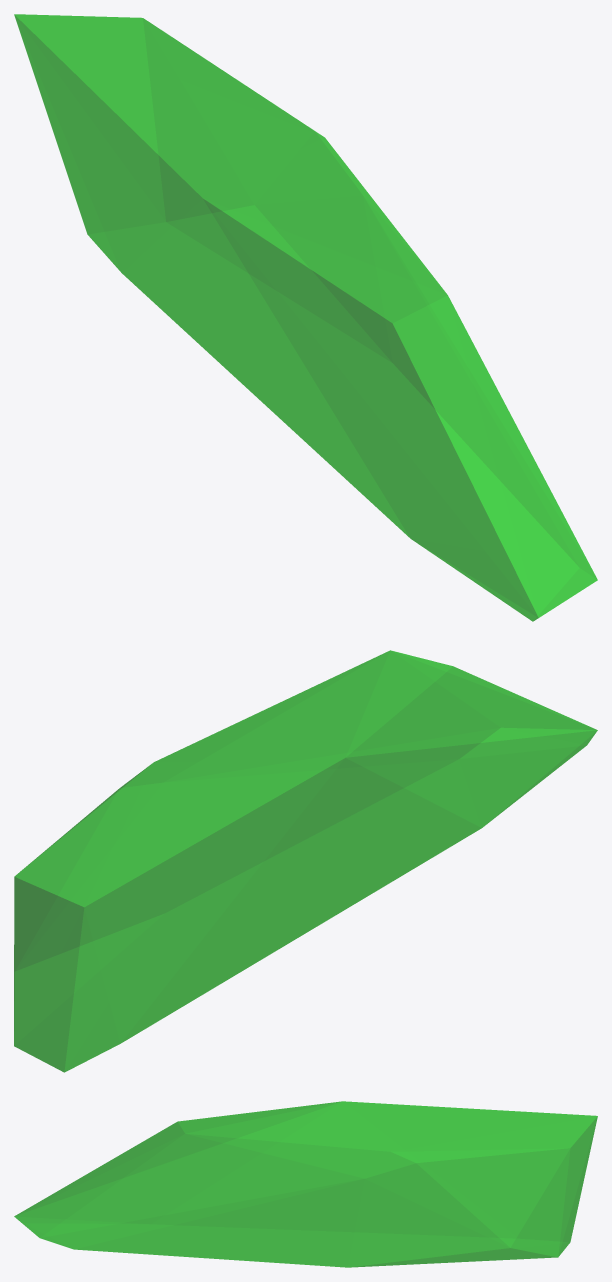
3 views of the same model, one above another, from view 1: azimuth 30°, elevation 25°; view 2: azimuth 150°, elevation 25°; view 3: azimuth 270°, elevation 25° (orthographic). The views are drawn at different scales.
Parts seen in each view (by area): view 1: Shape_IndexedFaceSet.034_Shape_IndexedFaceSet.3611; view 2: Shape_IndexedFaceSet.034_Shape_IndexedFaceSet.3611; view 3: Shape_IndexedFaceSet.034_Shape_IndexedFaceSet.3611.
Part boxes in pixels (x1,y1,x2,y2): Shape_IndexedFaceSet.034_Shape_IndexedFaceSet.3611: [14, 14, 597, 621]; Shape_IndexedFaceSet.034_Shape_IndexedFaceSet.3611: [14, 650, 597, 1072]; Shape_IndexedFaceSet.034_Shape_IndexedFaceSet.3611: [14, 1101, 597, 1267].
Size of the model in its own units: 0.115 by 0.1138 by 0.5215.
